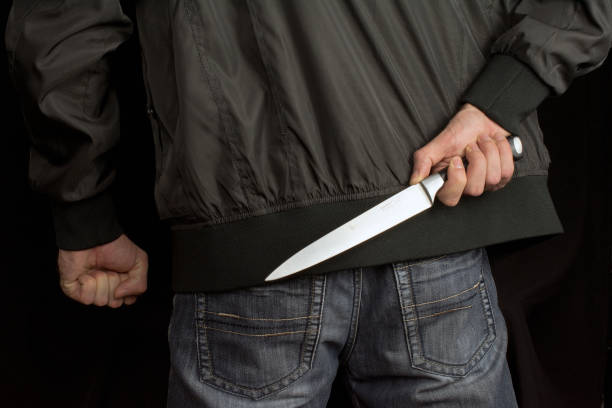knife: (260, 132, 525, 286)
